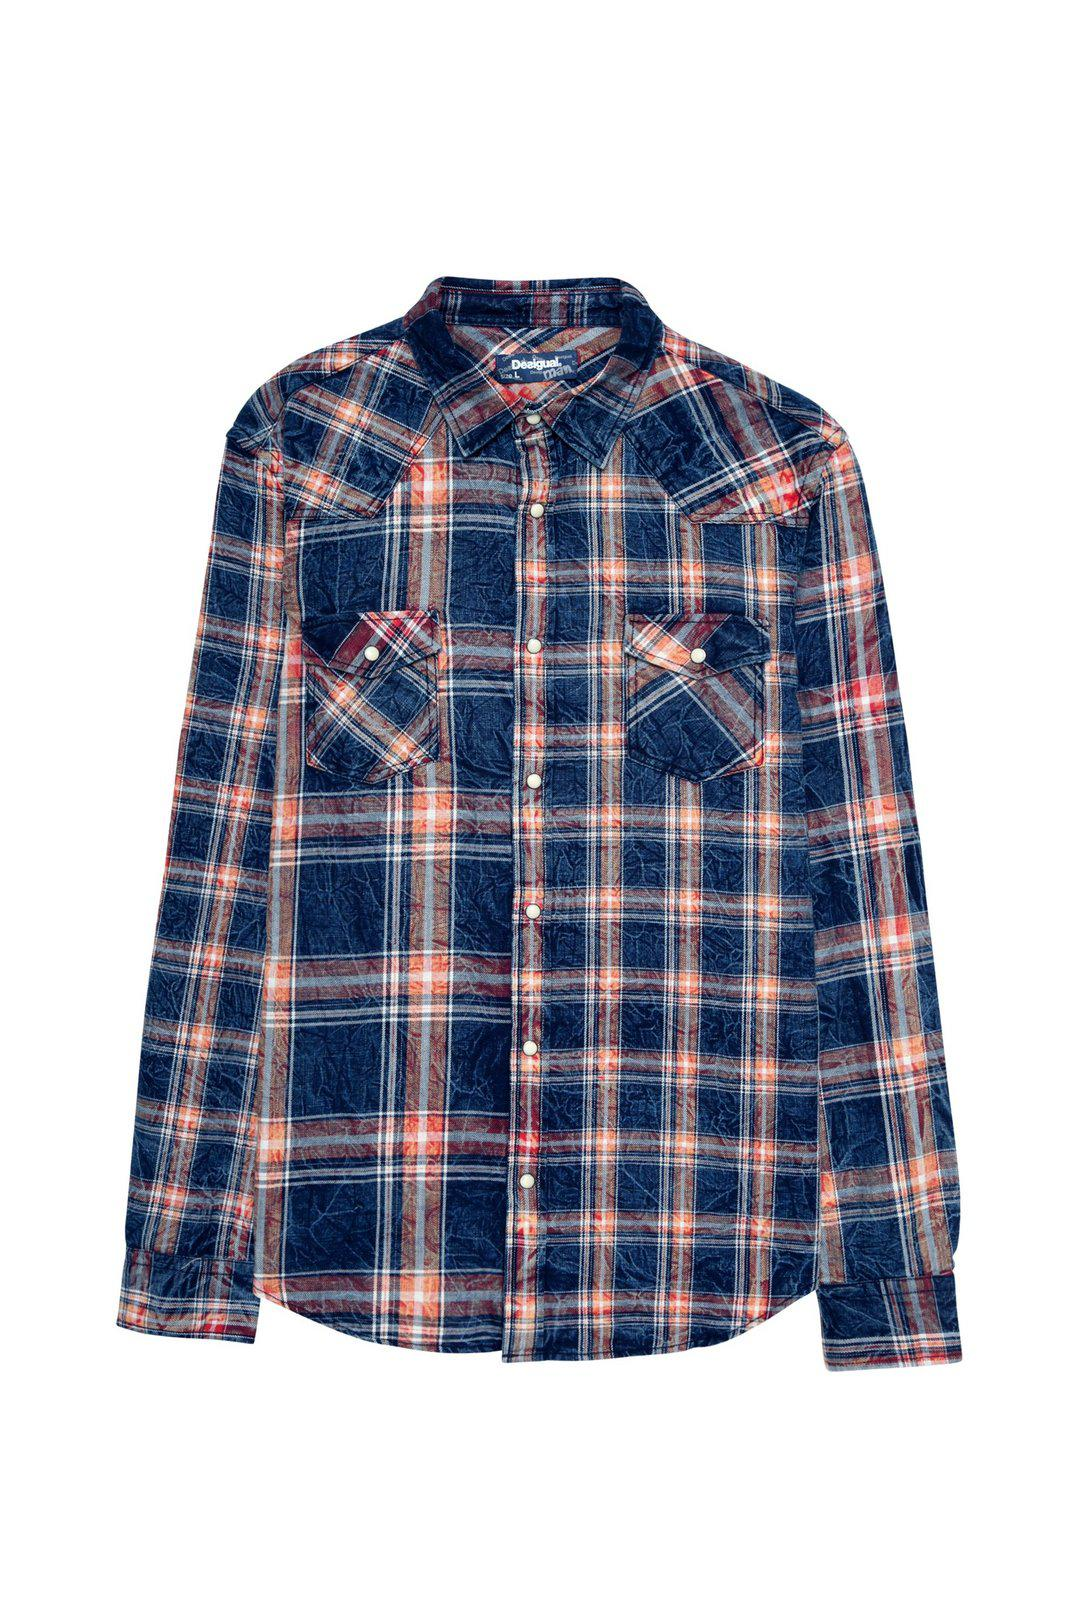teeshirt: (108, 270, 978, 1387)
